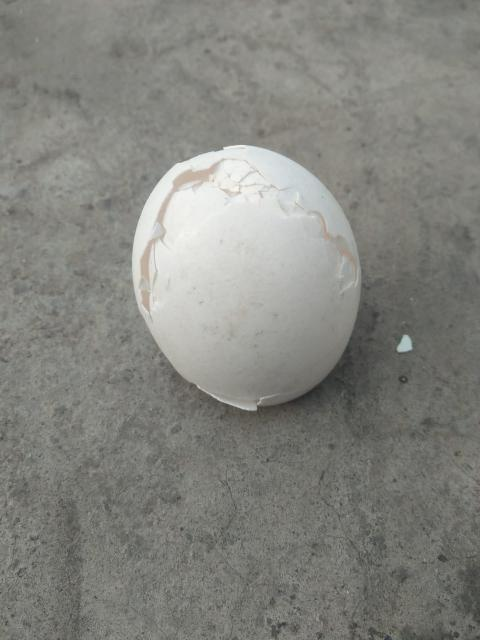Roto: (131, 143, 362, 412)
